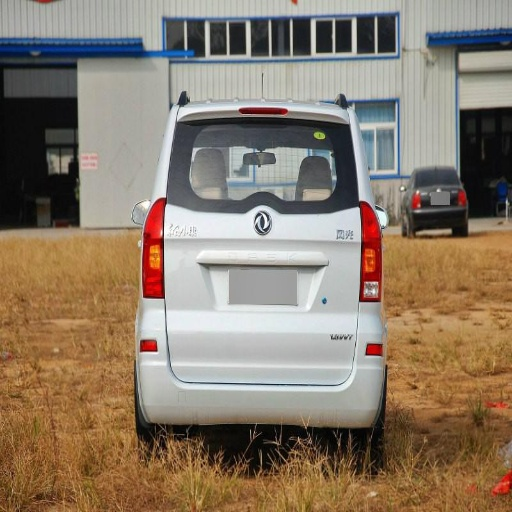back_bumper: (135, 300, 380, 426)
tailgate: (166, 193, 292, 299), (192, 257, 273, 305)
